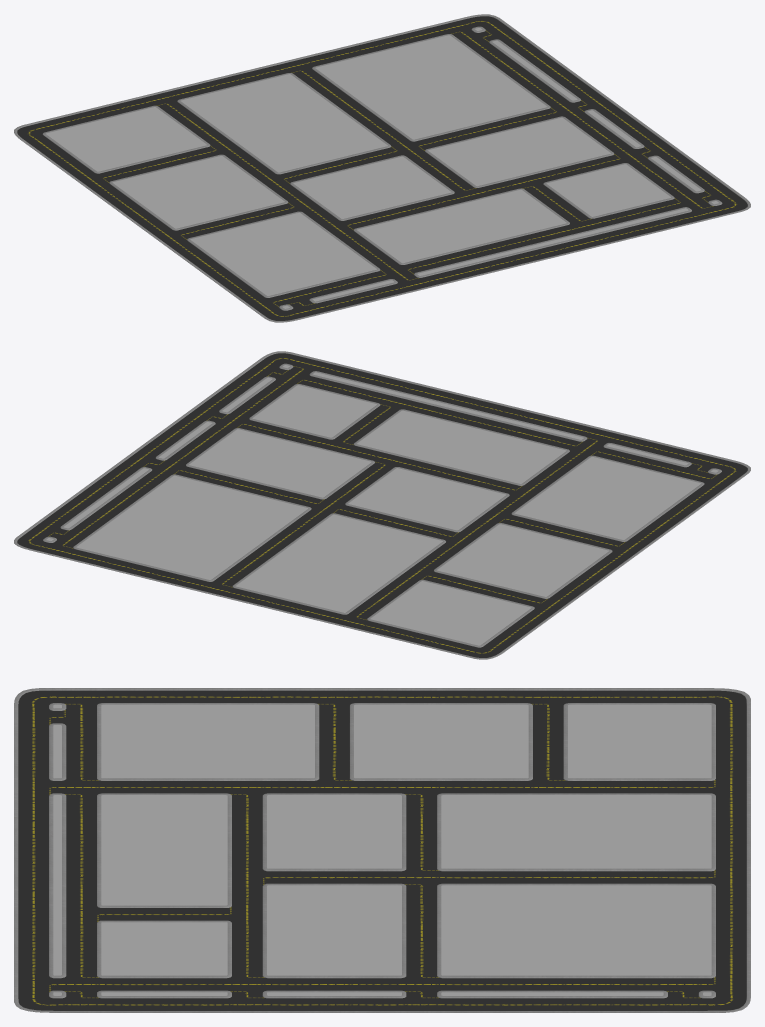
Rendered from RoadBlockout.fbx.
3 renders of one model, top to bottom at view 1: azimuth 30°, elevation 25°; view 2: azimuth 150°, elevation 25°; view 3: azimuth 270°, elevation 25°, orthographic. The views are drawn at different scales.
Visible parts, largest first — view 1: Road_Blockout, GroundPlane13, GroundPlane14, GroundPlane17, GroundPlane2, GroundPlane16, GroundPlane12, GroundPlane15, GroundPlane1, GroundPlane3, GroundPlane11; view 2: Road_Blockout, GroundPlane13, GroundPlane14, GroundPlane17, GroundPlane2, GroundPlane16, GroundPlane12, GroundPlane15, GroundPlane1, GroundPlane3, GroundPlane11; view 3: Road_Blockout, GroundPlane13, GroundPlane14, GroundPlane17, GroundPlane2, GroundPlane16, GroundPlane12, GroundPlane15, GroundPlane1, GroundPlane3, GroundPlane11, GroundPlane7.
Part boxes in pixels (box(x1,y1,x2,y2)): Road_Blockout: box(14, 14, 750, 322); GroundPlane13: box(315, 35, 547, 139); GroundPlane14: box(181, 74, 387, 172); GroundPlane17: box(190, 212, 376, 295); GroundPlane2: box(357, 189, 566, 263); GroundPlane16: box(112, 156, 284, 228); GroundPlane12: box(428, 117, 610, 186); GroundPlane15: box(46, 107, 206, 171); GroundPlane1: box(293, 156, 451, 218); GroundPlane3: box(546, 164, 670, 216); GroundPlane11: box(417, 208, 688, 275); Road_Blockout: box(14, 351, 750, 659); GroundPlane13: box(76, 475, 307, 579); GroundPlane14: box(236, 514, 442, 612); GroundPlane17: box(514, 457, 701, 539); GroundPlane2: box(357, 410, 566, 483); GroundPlane16: box(437, 524, 608, 596); GroundPlane12: box(189, 429, 371, 497); GroundPlane15: box(370, 581, 531, 645); GroundPlane1: box(348, 468, 505, 530); GroundPlane3: box(252, 385, 376, 437); GroundPlane11: box(313, 372, 583, 439); Road_Blockout: box(14, 688, 750, 1012); GroundPlane13: box(441, 885, 711, 975); GroundPlane14: box(441, 795, 711, 868); GroundPlane17: box(101, 704, 314, 778); GroundPlane2: box(101, 795, 227, 905); GroundPlane16: box(354, 704, 528, 778); GroundPlane12: box(267, 885, 401, 975); GroundPlane15: box(568, 704, 711, 778); GroundPlane1: box(267, 795, 401, 868); GroundPlane3: box(101, 922, 227, 975); GroundPlane11: box(53, 795, 61, 975); GroundPlane7: box(441, 992, 663, 995).
Size of the model in its own units: 17600 by 18.49 by 16900.
